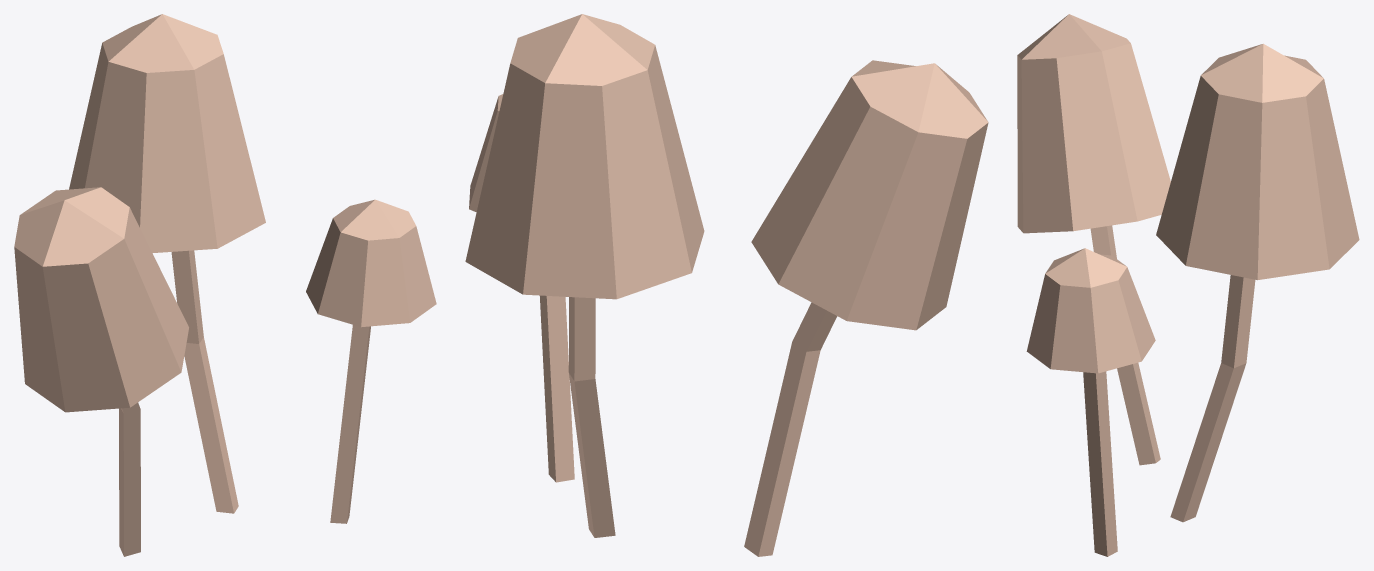
The model's file is Mushroom_b_05.fbx.
The picture shows the model from 3 angles, left to right: view 1: azimuth 30°, elevation 25°; view 2: azimuth 150°, elevation 25°; view 3: azimuth 270°, elevation 25°; orthographic projection. The views are drawn at different scales.
Parts seen in each view (by area): view 1: Mushroom_b_05; view 2: Mushroom_b_05; view 3: Mushroom_b_05.
Boxes of the visible parts, bbox=[...] form: Mushroom_b_05: bbox=[14, 14, 436, 556]; Mushroom_b_05: bbox=[465, 14, 988, 556]; Mushroom_b_05: bbox=[1017, 14, 1359, 556].
Bounding box in the file's own units: 32.09 × 35.16 × 23.43.
